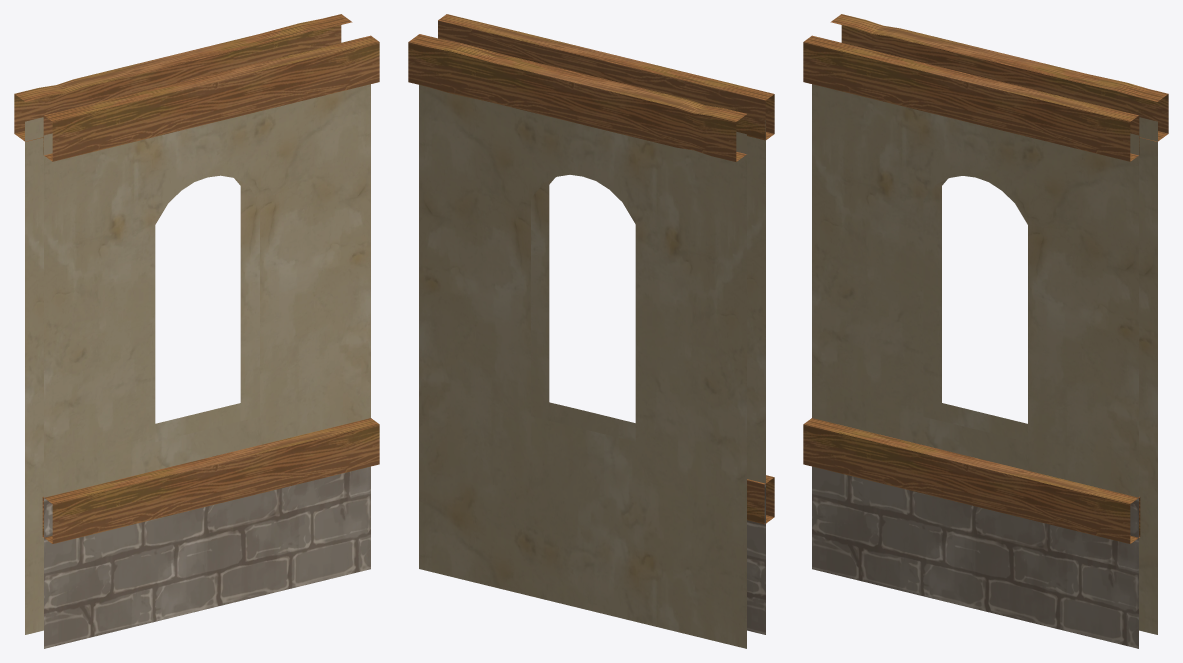
The model's file is Wall_Plaster_Window_Thin_Round.gltf.
The picture shows the model from 3 angles, left to right: view 1: azimuth 30°, elevation 25°; view 2: azimuth 150°, elevation 25°; view 3: azimuth 330°, elevation 25°; orthographic projection.
Visible parts, largest first — view 1: Wall_Plaster_Window_Thin_Round; view 2: Wall_Plaster_Window_Thin_Round; view 3: Wall_Plaster_Window_Thin_Round.
Part boxes in pixels (<box>): Wall_Plaster_Window_Thin_Round: <box>14,14,379,648</box>; Wall_Plaster_Window_Thin_Round: <box>408,14,774,648</box>; Wall_Plaster_Window_Thin_Round: <box>803,14,1168,648</box>.
Size of the model in its own units: 2 by 3.12 by 0.4065.
Materials: 3 (3 with a texture image).
